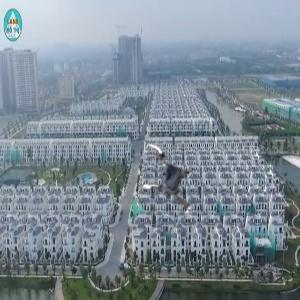drone: (130, 140, 210, 220)
